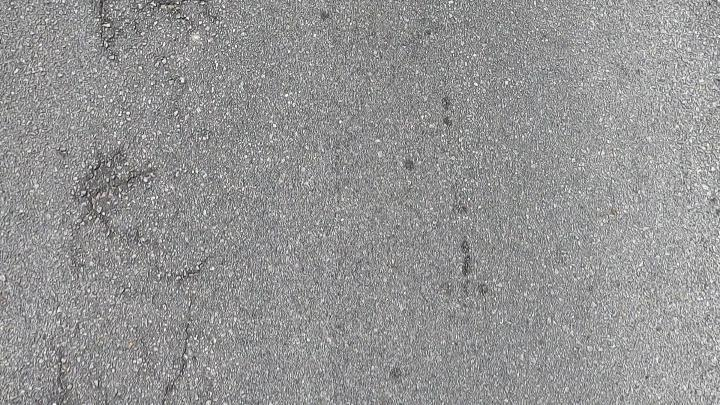Crack: (74, 148, 154, 243), (74, 148, 154, 241), (154, 291, 197, 405), (86, 0, 188, 47), (98, 0, 186, 48), (161, 293, 194, 404)
